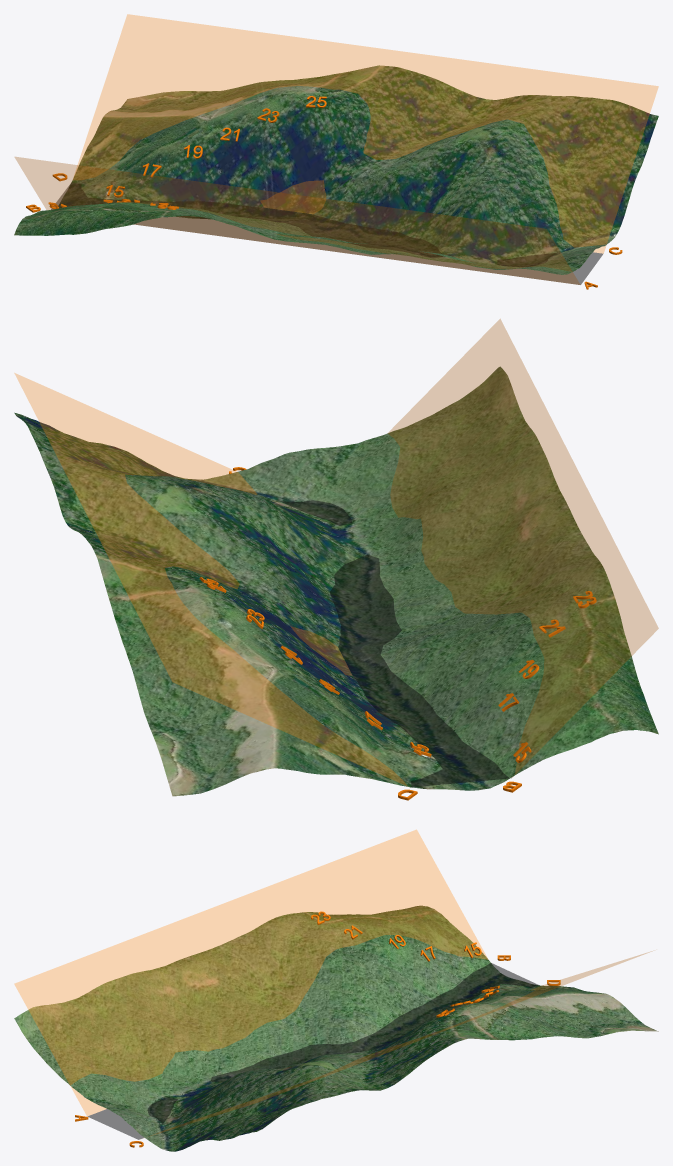
Rendered from curva16a.glb.
3 renders of one model, top to bottom at view 1: azimuth 30°, elevation 25°; view 2: azimuth 150°, elevation 25°; view 3: azimuth 270°, elevation 25°, orthographic. The views are drawn at different scales.
Parts seen in each view (by area): view 1: root, object 2, object 3; view 2: root, object 2, object 3; view 3: root, object 2, object 3.
Boxes of the visible parts, box(x1,y1,x2,y2) form: root: box(14, 65, 658, 284); object 2: box(15, 14, 658, 284); object 3: box(26, 96, 622, 289); root: box(14, 366, 658, 796); object 2: box(14, 319, 658, 785); object 3: box(199, 467, 596, 800); root: box(14, 905, 658, 1151); object 2: box(14, 830, 651, 1135); object 3: box(75, 911, 560, 1147).
Size of the model in its own units: 1835 by 337 by 1874.
4 materials, 1 textured.
